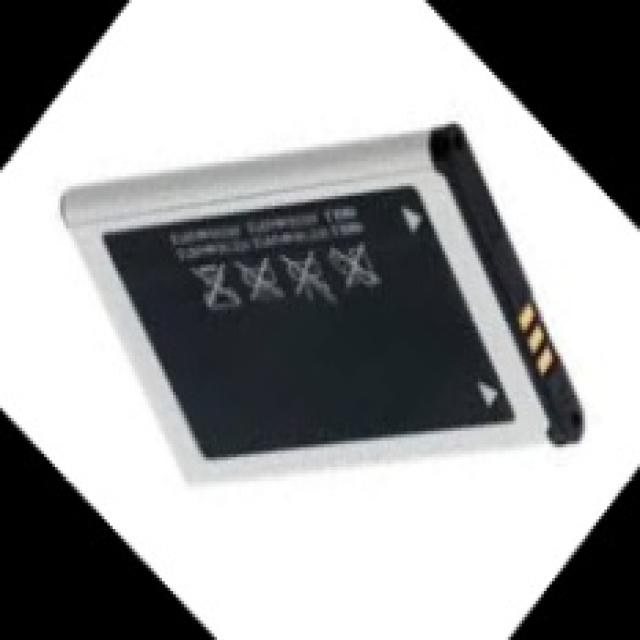elektronik: (46, 110, 607, 500)
